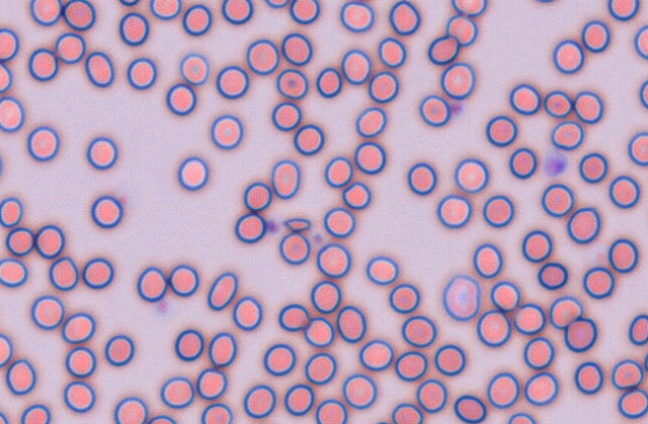PLT: (540, 149, 571, 178), (265, 218, 278, 232), (156, 301, 170, 314), (312, 232, 323, 245)
RBC: (442, 274, 480, 320), (341, 373, 377, 409), (440, 62, 475, 99), (316, 242, 351, 278), (476, 309, 510, 346), (566, 206, 600, 243), (206, 271, 238, 310), (436, 194, 472, 228), (454, 157, 488, 193), (486, 371, 519, 408), (270, 159, 300, 199), (548, 295, 583, 329), (523, 371, 558, 405), (26, 125, 59, 161), (246, 38, 279, 74), (30, 295, 64, 329), (242, 384, 276, 418), (564, 317, 597, 352), (358, 338, 393, 371), (210, 114, 243, 149), (5, 358, 36, 395), (215, 65, 249, 98), (541, 183, 574, 217), (415, 378, 447, 413), (401, 315, 436, 347), (388, 0, 420, 35), (339, 0, 374, 32), (552, 39, 584, 74), (136, 266, 167, 302), (340, 48, 371, 84), (336, 305, 366, 342), (263, 343, 296, 376), (90, 195, 123, 228), (160, 376, 194, 408), (607, 238, 638, 273), (177, 155, 208, 190), (472, 242, 502, 278), (84, 51, 114, 87), (512, 302, 545, 334), (608, 175, 640, 208), (482, 194, 514, 227), (61, 312, 95, 343), (34, 224, 65, 258), (406, 161, 437, 195), (232, 295, 262, 330), (208, 331, 237, 367), (304, 352, 336, 384), (63, 380, 95, 412), (582, 266, 614, 298), (278, 232, 310, 264), (433, 343, 465, 375), (418, 94, 450, 126), (509, 83, 541, 115), (394, 350, 427, 381), (196, 367, 227, 400), (310, 280, 341, 313), (523, 336, 554, 369), (521, 229, 552, 262), (118, 12, 149, 45), (368, 70, 399, 103), (275, 68, 308, 99), (281, 32, 312, 65), (165, 82, 196, 115), (354, 141, 385, 174), (86, 136, 117, 169), (365, 255, 399, 285), (48, 256, 78, 290), (550, 120, 584, 150), (446, 14, 477, 46), (427, 34, 459, 65), (611, 358, 643, 389), (64, 346, 96, 377), (283, 383, 314, 415), (234, 212, 266, 243), (323, 206, 355, 237), (168, 264, 199, 296), (54, 32, 85, 64), (82, 257, 113, 289), (293, 123, 324, 155), (485, 115, 517, 146), (62, 0, 95, 30), (174, 328, 204, 361), (28, 48, 58, 81), (573, 90, 603, 123), (179, 52, 209, 85), (303, 316, 334, 347), (355, 106, 386, 137), (388, 283, 420, 313), (104, 334, 134, 366), (126, 57, 156, 89), (453, 394, 486, 423), (574, 361, 603, 394), (581, 19, 610, 52), (490, 280, 520, 311), (578, 152, 608, 183), (324, 156, 353, 188), (0, 95, 25, 132), (113, 396, 147, 423), (617, 388, 647, 418), (271, 101, 301, 131), (537, 261, 568, 290), (377, 36, 406, 67), (182, 4, 211, 35), (508, 147, 537, 178), (278, 303, 309, 331), (315, 66, 342, 98), (5, 227, 34, 256), (243, 181, 271, 211), (29, 0, 61, 26), (543, 90, 572, 118), (341, 181, 370, 209), (0, 257, 27, 287), (315, 398, 347, 423), (221, 0, 253, 24), (289, 0, 320, 24), (0, 196, 23, 227), (627, 131, 647, 166), (391, 402, 423, 423), (607, 0, 639, 21), (0, 27, 19, 61), (200, 403, 232, 423), (149, 0, 181, 19), (20, 403, 50, 423), (628, 314, 647, 345), (451, 0, 487, 16), (634, 24, 647, 59), (0, 333, 13, 367), (0, 62, 12, 93), (507, 412, 536, 423), (147, 414, 176, 423), (639, 79, 647, 109), (263, 0, 290, 8), (117, 0, 140, 6), (643, 351, 648, 371), (0, 411, 8, 423), (0, 153, 3, 181), (532, 0, 559, 3), (374, 420, 391, 424)
Schistocyte: (283, 217, 312, 232)
